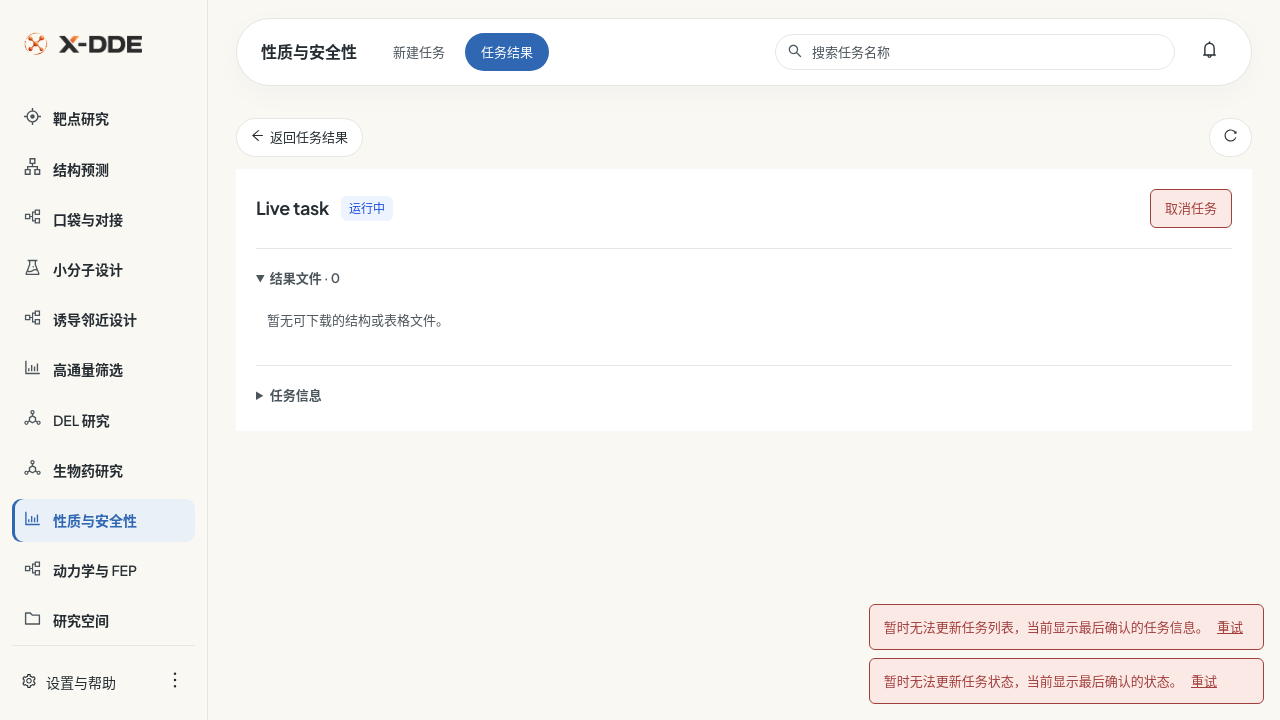
Test case: labels last-confirmed disconnected status and real recovery in zh
This screenshot has width=1280, height=720.
Expected: the message "暂时无法更新任务状态，当前显示最后确认的状态。 重试" is shown, [869,658,1264,704]
Expected: the text with class "status" reads "运行中", [349,201,385,216]
Click the button "重试" next to "暂时无法更新任务状态，当前显示最后确认的状态。" at (1204, 681), box [1185,669,1223,693]
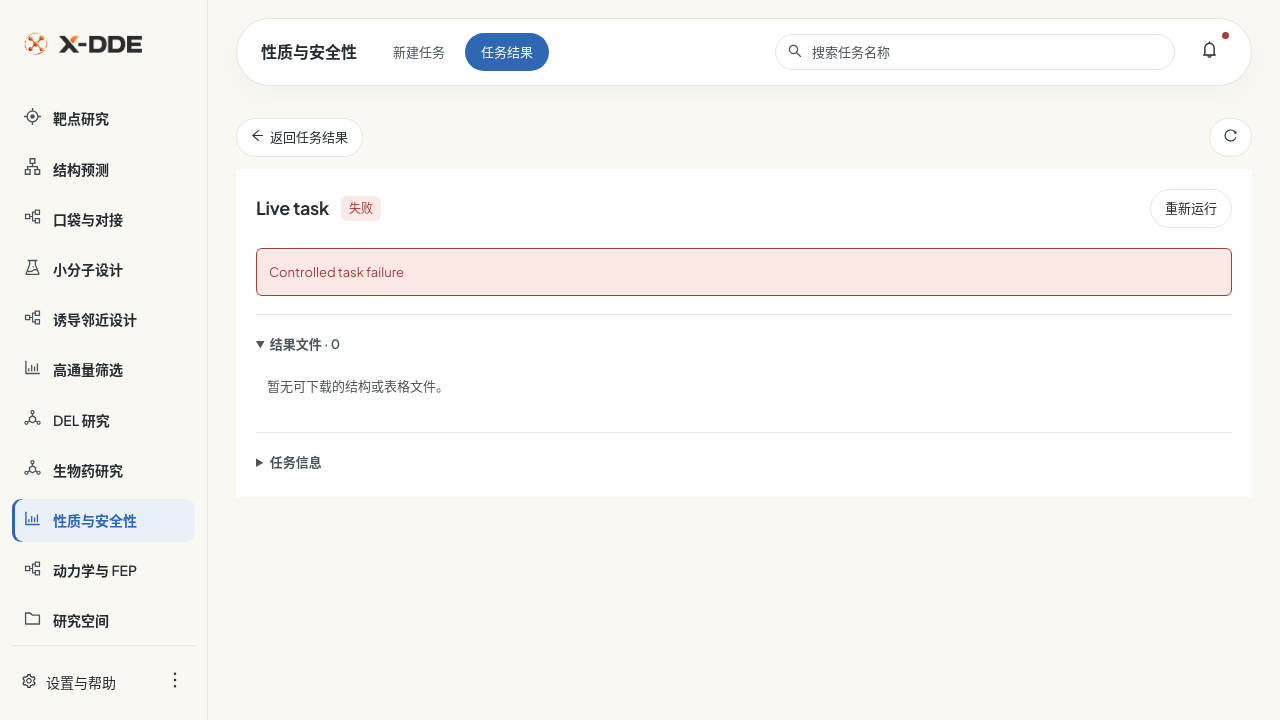
Expected: the text with class "status" reads "失败", [349,201,373,216]
